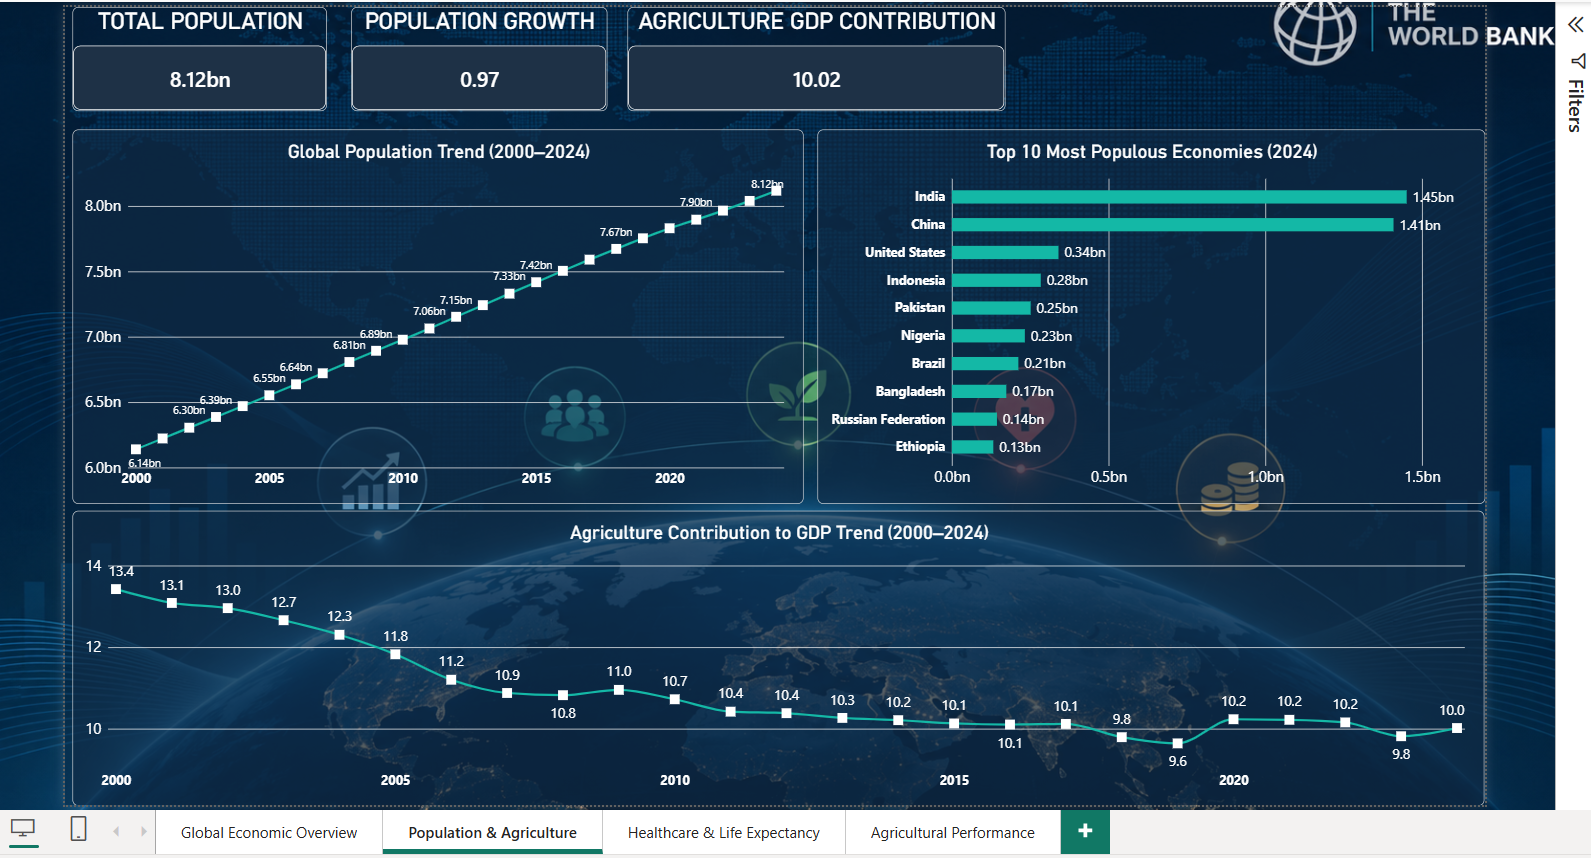

The dashboard page shown, as its layout file describes it:
{"tool":"powerbi","page":{"name":"\tPopulation & Agriculture","canvas":[1920,1080],"ordinal":1},"visuals":[{"type":"cardVisual","title":"\tTOTAL POPULATION","fields":{"Data":["worldbank_global_cleaned.Total Population"]},"box":[10.5,0,344.4,140.6],"z":0},{"type":"cardVisual","title":"AGRICULTURE GDP CONTRIBUTION","fields":{"Data":["worldbank_global_cleaned.Average Agriculture GDP %"]},"box":[760.8,0,511.3,140.6],"z":1000},{"type":"cardVisual","title":"\tPOPULATION GROWTH","fields":{"Data":["worldbank_global_cleaned.Population Growth %"]},"box":[386.5,0,346.1,140.6],"z":2000},{"type":"lineChart","title":"\tGlobal Population Trend (2000–2024)","fields":{"Category":["worldbank_global_cleaned.Year"],"Y":["Sum(worldbank_global_cleaned.Value)"]},"box":[10.5,165.2,989.2,506],"z":3000},{"type":"clusteredBarChart","title":"\tTop 10 Most Populous Economies (2024)","fields":{"Category":["worldbank_global_cleaned.Country_Name"],"Y":["Sum(worldbank_global_cleaned.Value)"]},"box":[1017.8,165.7,903.1,506],"z":4000},{"type":"lineChart","title":"\tAgriculture Contribution to GDP Trend (2000–2024)","fields":{"Category":["worldbank_global_cleaned.Year"],"Y":["Avg(worldbank_global_cleaned.Value)"]},"box":[10.5,681.7,1909.8,398.8],"z":5000}]}

Visuals, with their boxes on the page's 1920x1080 design canvas (x1, y1, x2, y2). These are canvas units, not pixel positions in the 1591x858 screenshot, which may show the page scaled, cropped or inside an application window:
"	TOTAL POPULATION" cardVisual: left=10, top=0, right=355, bottom=141
"AGRICULTURE GDP CONTRIBUTION" cardVisual: left=761, top=0, right=1272, bottom=141
"	POPULATION GROWTH" cardVisual: left=386, top=0, right=733, bottom=141
"	Global Population Trend (2000–2024)" lineChart: left=10, top=165, right=1000, bottom=671
"	Top 10 Most Populous Economies (2024)" clusteredBarChart: left=1018, top=166, right=1921, bottom=672
"	Agriculture Contribution to GDP Trend (2000–2024)" lineChart: left=10, top=682, right=1920, bottom=1080
